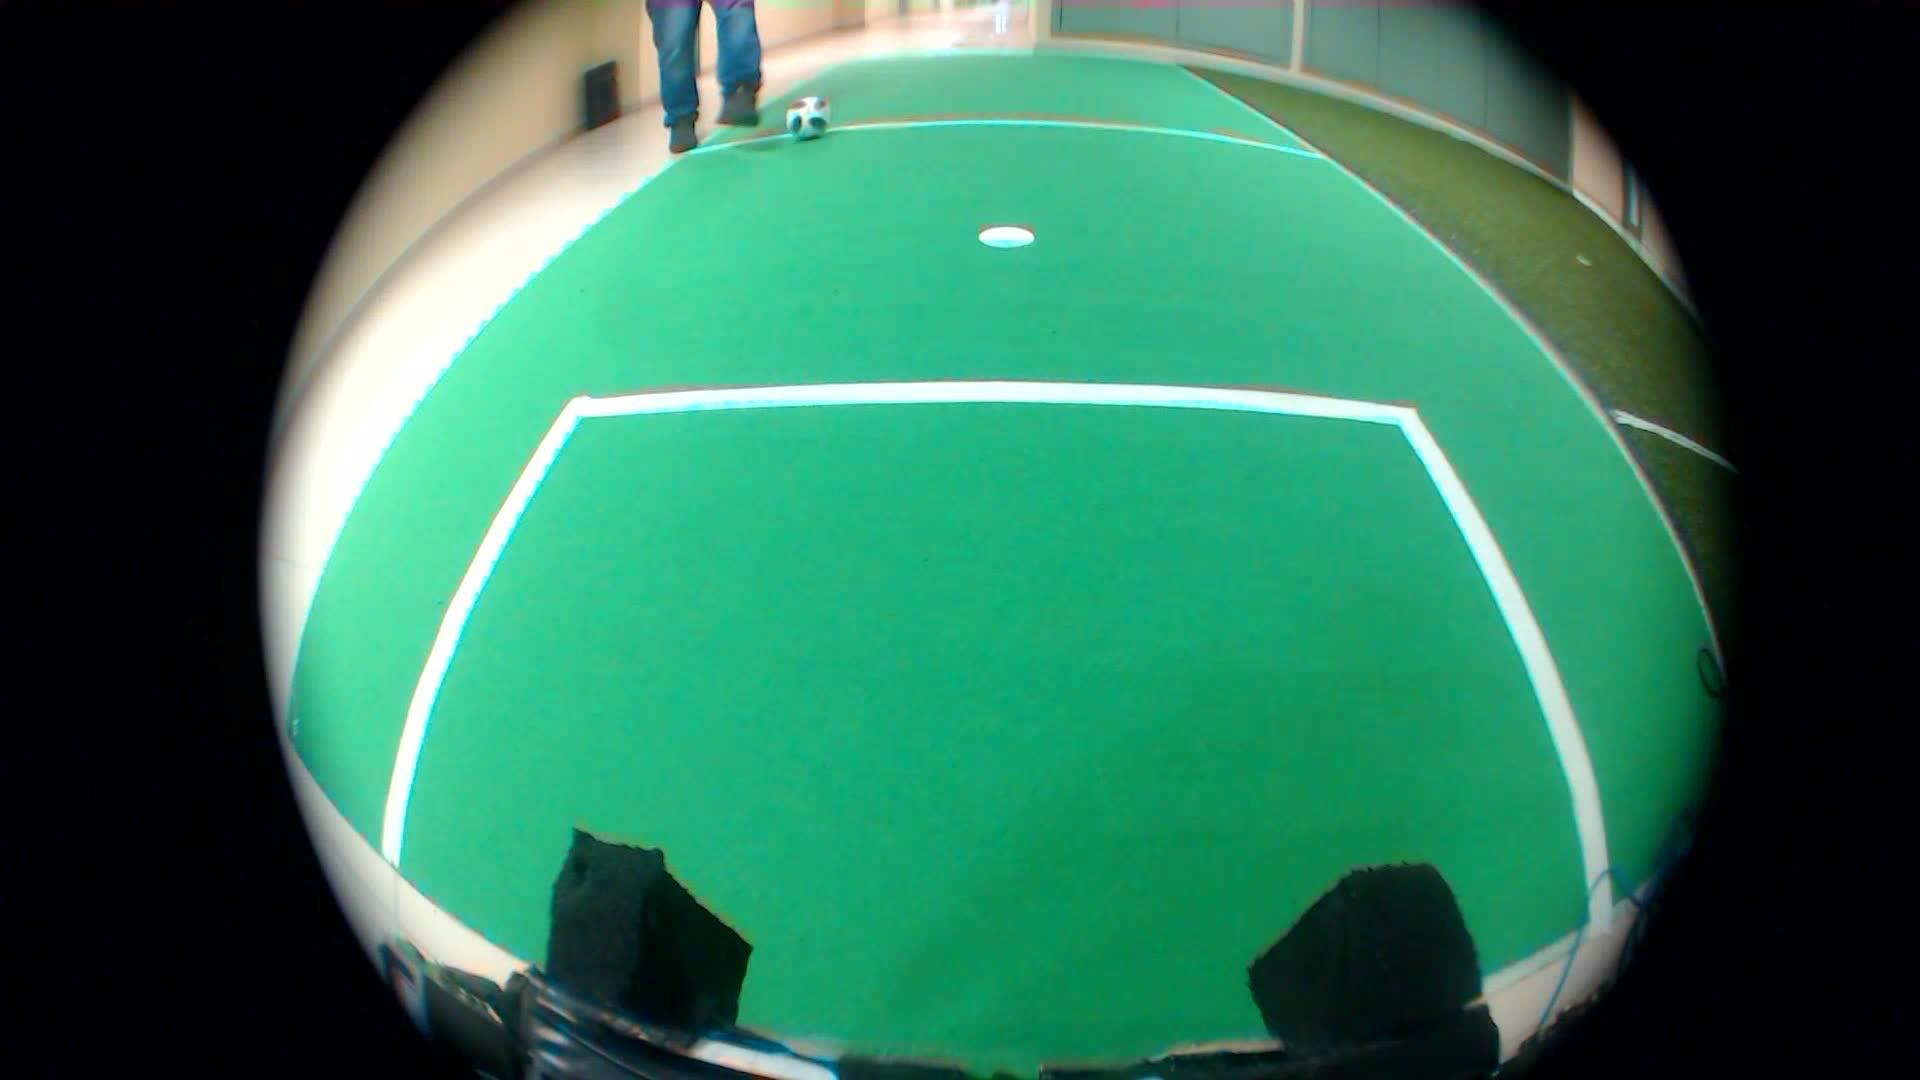ball: (775, 88, 831, 144)
